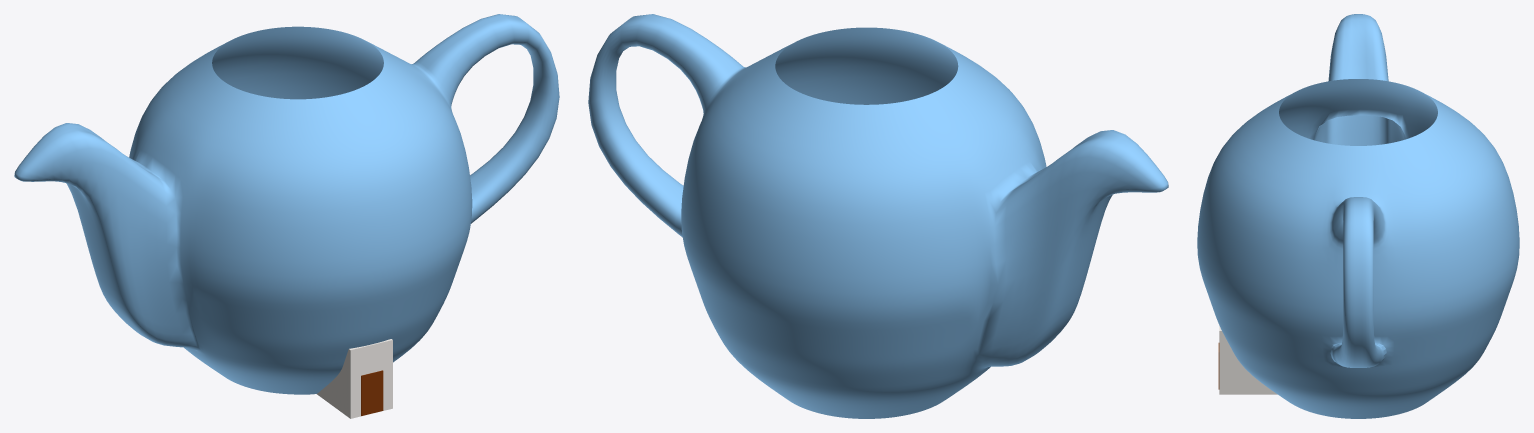
The model's file is TeapotHouseJamb.fbx.
The picture shows the model from 3 angles, left to right: view 1: azimuth 30°, elevation 25°; view 2: azimuth 150°, elevation 25°; view 3: azimuth 270°, elevation 25°; orthographic projection. The views are drawn at different scales.
Visible parts, largest first — view 1: Circle; view 2: Circle; view 3: Circle.
Part boxes in pixels (x1,y1,x2,y2): Circle: (14,14,559,418); Circle: (588,14,1168,418); Circle: (1197,14,1519,418).
Size of the model in its own units: 9220 by 4830 by 5166.
